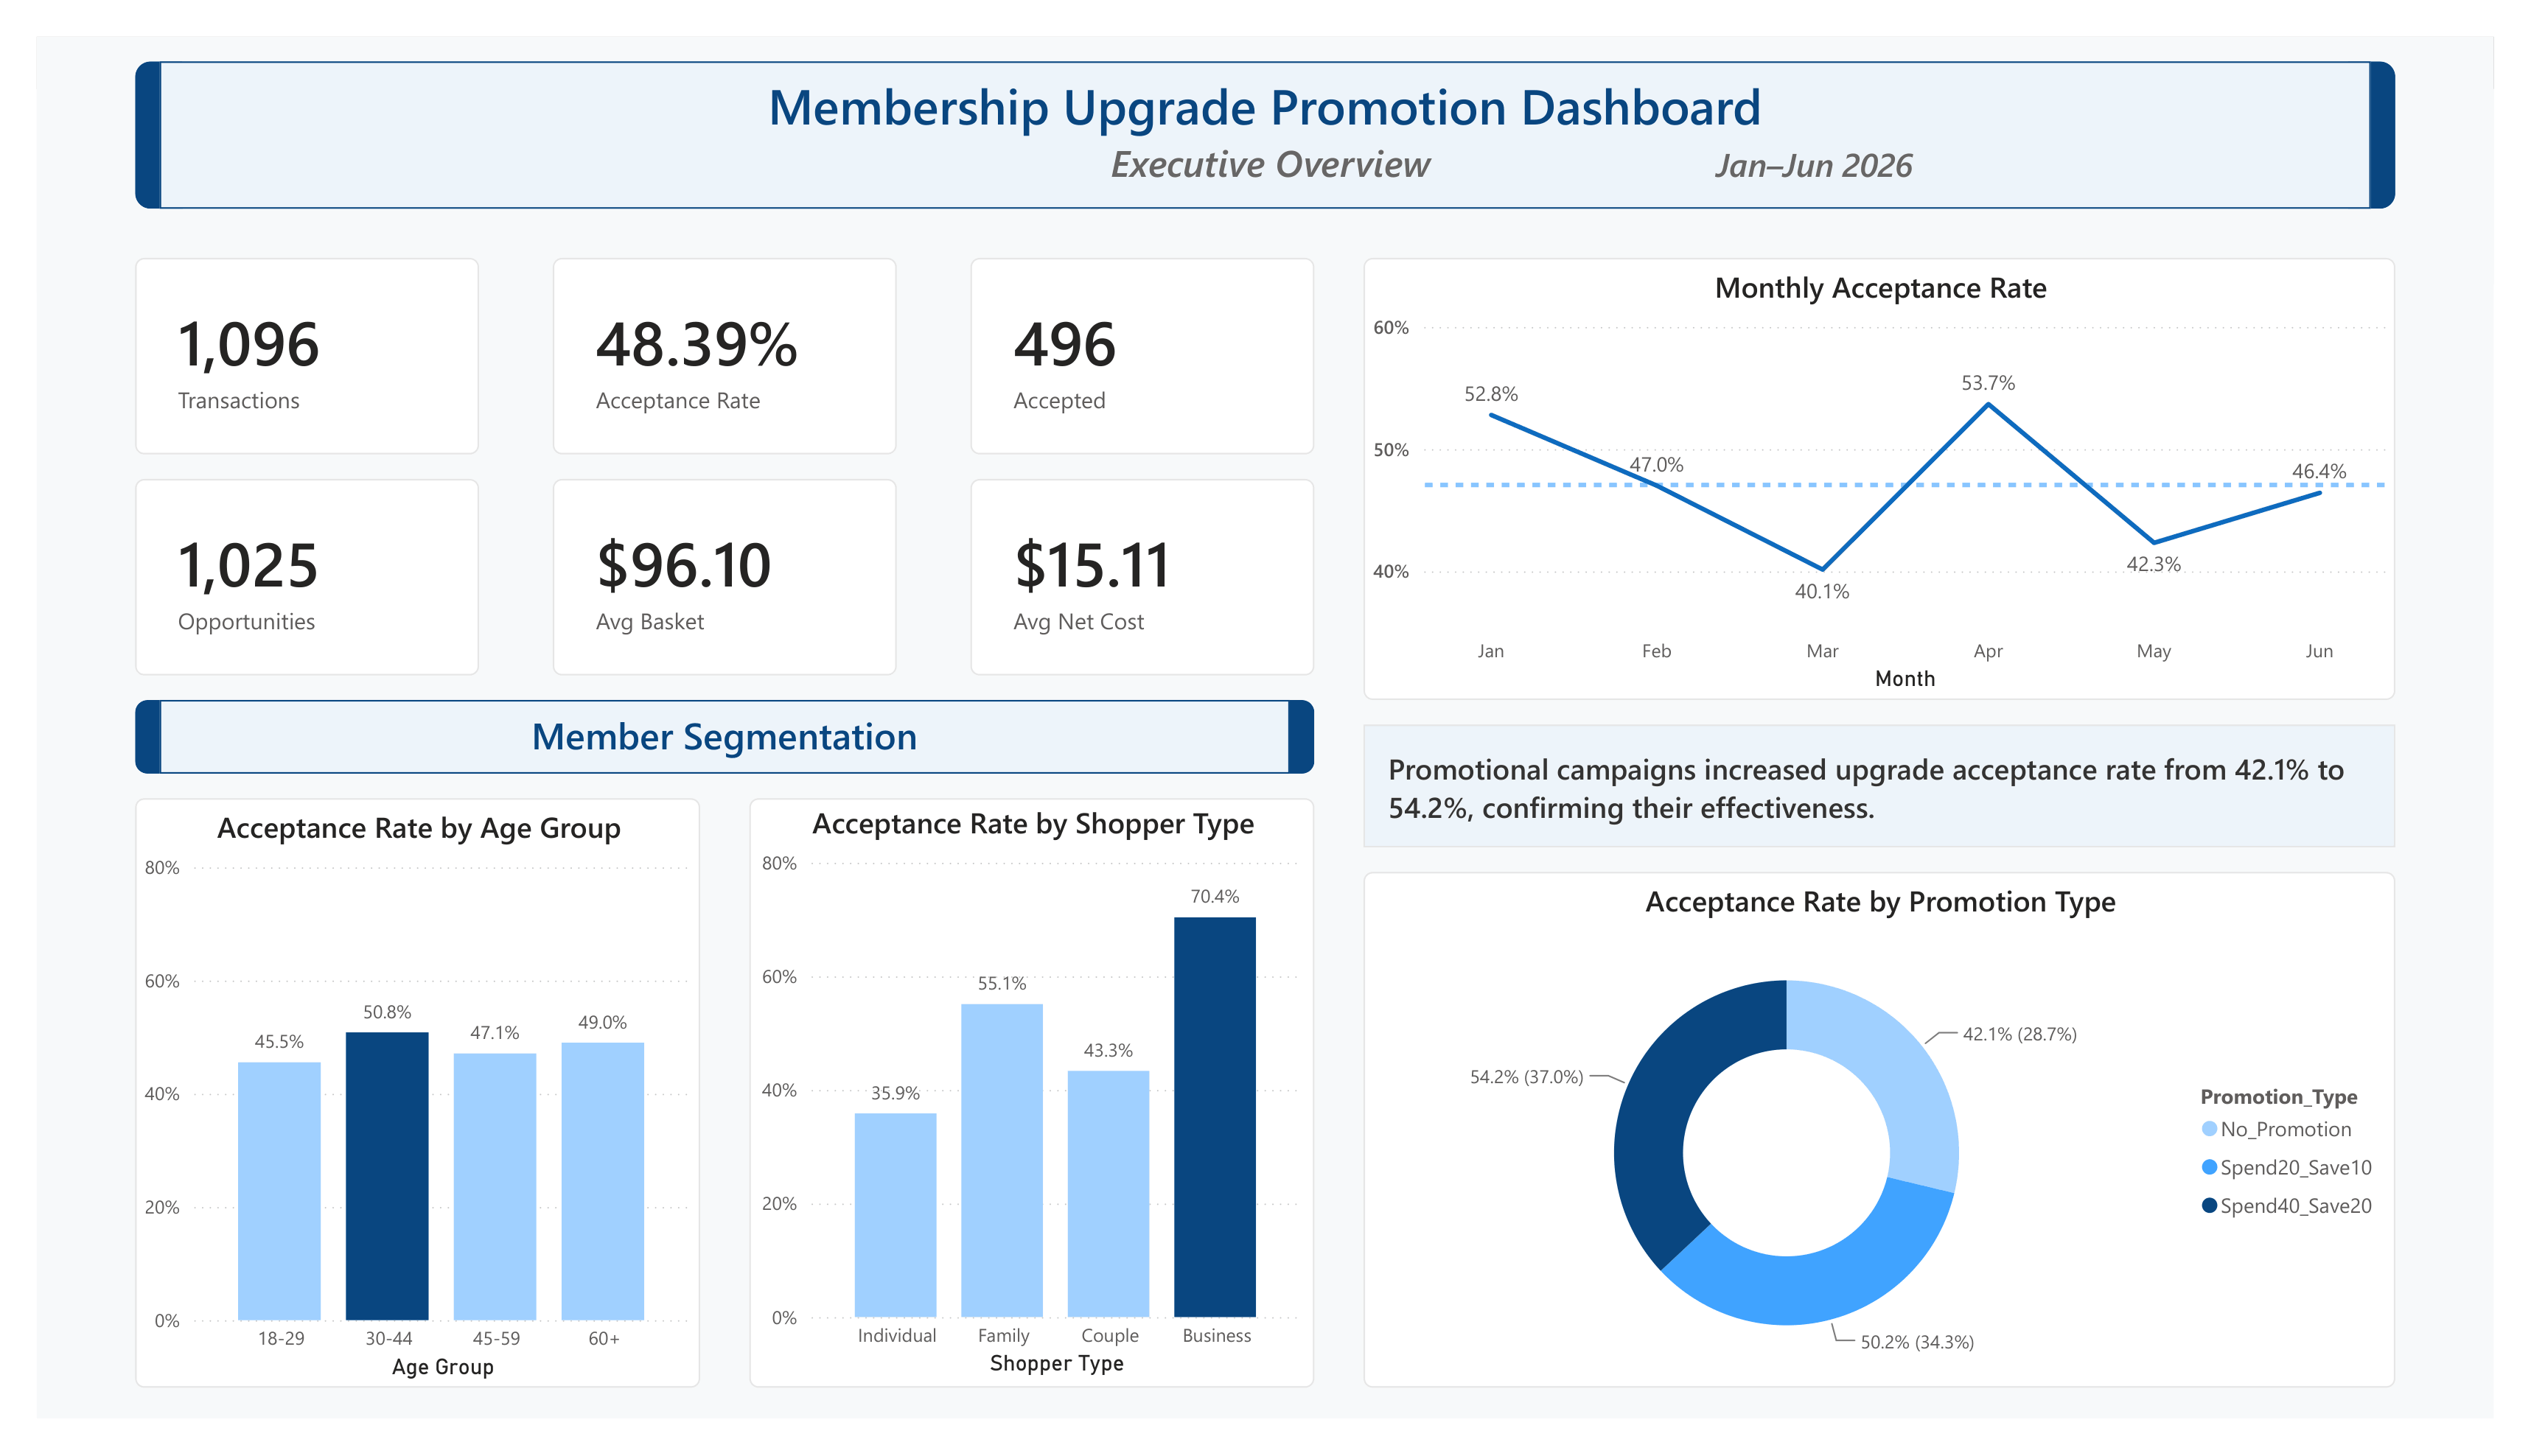

The dashboard page shown, as its layout file describes it:
{"tool":"powerbi","page":{"name":"Executive Overview","canvas":[1600,900],"ordinal":0},"visuals":[{"type":"cardVisual","fields":{"Data":["Measure_Table.01. Total Transactions"]},"box":[64,144,224,128],"z":0,"group":"g2"},{"type":"shape","box":[800,432,32,48],"z":0},{"type":"cardVisual","fields":{"Data":["Measure_Table.07. Avg Basket Amount"]},"box":[336,288,224,128],"z":1000,"group":"g2"},{"type":"shape","box":[64,432,32,48],"z":1000},{"type":"shape","box":[1496,16,40,96],"z":2000},{"type":"cardVisual","fields":{"Data":["Measure_Table.02. Accepted"]},"box":[608,144,224,128],"z":2000,"group":"g2"},{"type":"shape","box":[64,16,40,96],"z":3000},{"type":"cardVisual","fields":{"Data":["Measure_Table.06. Acceptance Rate"]},"box":[336,144,224,128],"z":3000,"group":"g2"},{"type":"textbox","box":[80,16,1440,96],"z":4000},{"type":"cardVisual","fields":{"Data":["Measure_Table.08. Avg Net Upgrade Cost"]},"box":[608,288,224,128],"z":4000,"group":"g2"},{"type":"lineChart","title":"Monthly Acceptance Rate","fields":{"Category":["Date Table.Month"],"Y":["Measure_Table.Acceptance Rate"]},"box":[864,144,672,288],"z":5000},{"type":"cardVisual","fields":{"Data":["Measure_Table.Opportunities"]},"box":[64,288,224,128],"z":5000,"group":"g2"},{"type":"donutChart","title":"Acceptance Rate by Promotion Type","fields":{"Category":["Transaction.Promotion_Type"],"Y":["Measure_Table.Acceptance Rate"]},"box":[864,544,672,336],"z":6000},{"type":"group","id":"g1","title":"Group 1","box":[64,432,768,448],"z":7000},{"type":"group","id":"g2","title":"Group 2","box":[64,144,768,272],"z":8000},{"type":"textbox","box":[864,448,672,80],"z":9000},{"type":"clusteredColumnChart","title":"Acceptance Rate by Age Group","fields":{"Category":["Transaction.Age_Group"],"Y":["Measure_Table.Acceptance Rate"]},"box":[64,496,368,384],"z":11000,"group":"g1"},{"type":"clusteredColumnChart","title":"Acceptance Rate by Shopper Type","fields":{"Y":["Measure_Table.Acceptance Rate"],"Category":["Transaction.Shopper_Type"]},"box":[464,496,368,384],"z":12000,"group":"g1"},{"type":"textbox","box":[80,432,736,48],"z":13000,"group":"g1"}]}

Visuals, with their boxes on the page's 1600x900 design canvas (x1, y1, x2, y2). These are canvas units, not pixel positions in the 2531x1456 screenshot, which may show the page scaled, cropped or inside an application window:
cardVisual - Measure_Table.01. Total Transactions: [left=64, top=144, right=288, bottom=272]
shape: [left=800, top=432, right=832, bottom=480]
cardVisual - Measure_Table.07. Avg Basket Amount: [left=336, top=288, right=560, bottom=416]
shape: [left=64, top=432, right=96, bottom=480]
shape: [left=1496, top=16, right=1536, bottom=112]
cardVisual - Measure_Table.02. Accepted: [left=608, top=144, right=832, bottom=272]
shape: [left=64, top=16, right=104, bottom=112]
cardVisual - Measure_Table.06. Acceptance Rate: [left=336, top=144, right=560, bottom=272]
textbox: [left=80, top=16, right=1520, bottom=112]
cardVisual - Measure_Table.08. Avg Net Upgrade Cost: [left=608, top=288, right=832, bottom=416]
"Monthly Acceptance Rate" lineChart: [left=864, top=144, right=1536, bottom=432]
cardVisual - Measure_Table.Opportunities: [left=64, top=288, right=288, bottom=416]
"Acceptance Rate by Promotion Type" donutChart: [left=864, top=544, right=1536, bottom=880]
"Group 1" group: [left=64, top=432, right=832, bottom=880]
"Group 2" group: [left=64, top=144, right=832, bottom=416]
textbox: [left=864, top=448, right=1536, bottom=528]
"Acceptance Rate by Age Group" clusteredColumnChart: [left=64, top=496, right=432, bottom=880]
"Acceptance Rate by Shopper Type" clusteredColumnChart: [left=464, top=496, right=832, bottom=880]
textbox: [left=80, top=432, right=816, bottom=480]
